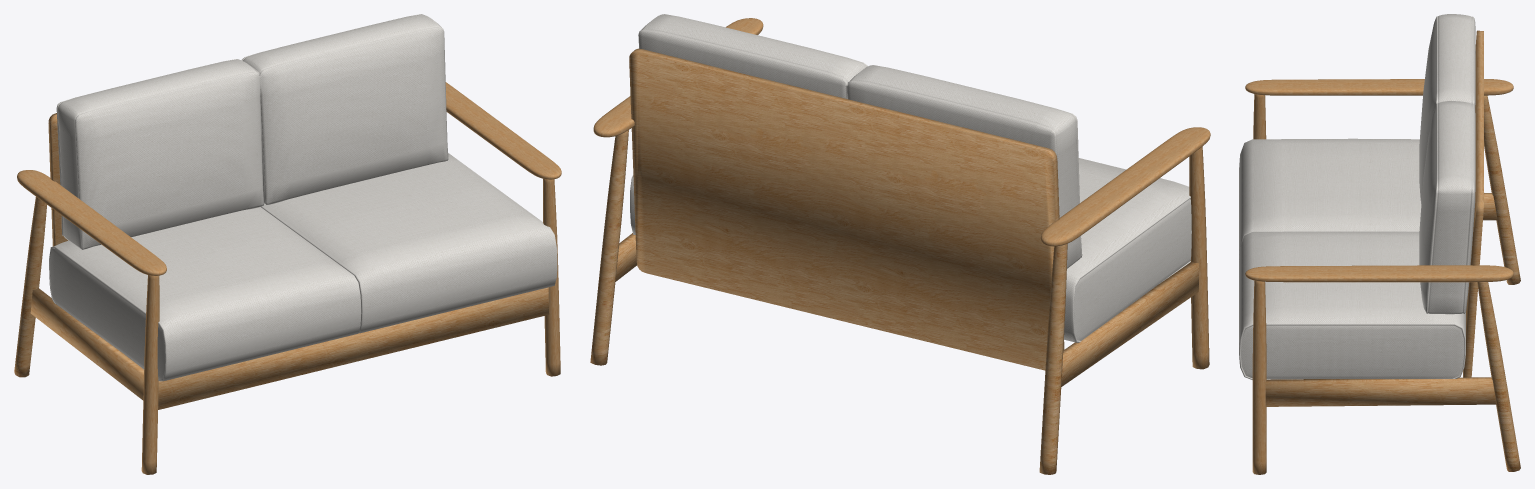
File: design5.obj
The picture shows the model from 3 angles, left to right: view 1: azimuth 30°, elevation 25°; view 2: azimuth 150°, elevation 25°; view 3: azimuth 270°, elevation 25°; orthographic projection. The views are drawn at different scales.
Visible parts, largest first — view 1: Box023, Box024, Plane006, Box019, Box020, Plane007, Plane008; view 2: Plane008, Box024, Box023, Box019, Box020, Plane007; view 3: Box023, Box024, Box019, Box020, Plane007, Plane008.
Boxes of the visible parts, left/top/right/bottom form: Box023: left=49, top=153, right=557, bottom=381; Box024: left=56, top=14, right=448, bottom=249; Plane006: left=158, top=287, right=549, bottom=409; Box019: left=14, top=179, right=560, bottom=474; Box020: left=17, top=82, right=561, bottom=275; Plane007: left=30, top=288, right=143, bottom=400; Plane008: left=48, top=113, right=67, bottom=246; Plane008: left=629, top=48, right=1064, bottom=370; Box024: left=638, top=14, right=1082, bottom=268; Box023: left=630, top=158, right=1191, bottom=342; Box019: left=590, top=130, right=1209, bottom=474; Box020: left=593, top=18, right=1210, bottom=246; Plane007: left=615, top=233, right=1198, bottom=386; Box023: left=1239, top=138, right=1465, bottom=379; Box024: left=1419, top=14, right=1475, bottom=314; Box019: left=1252, top=94, right=1520, bottom=474; Box020: left=1245, top=79, right=1513, bottom=282; Plane007: left=1265, top=193, right=1497, bottom=406; Plane008: left=1463, top=30, right=1483, bottom=377.
Size of the model in its own units: 1363 by 900 by 817.
Materials: 3 (2 with a texture image).
